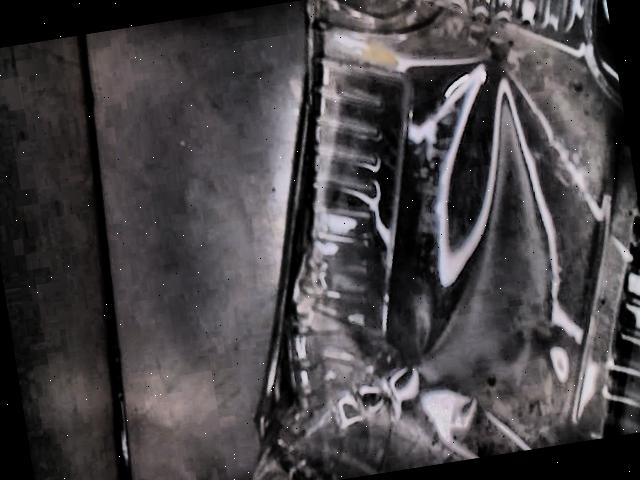Plastic: (250, 0, 640, 480)
